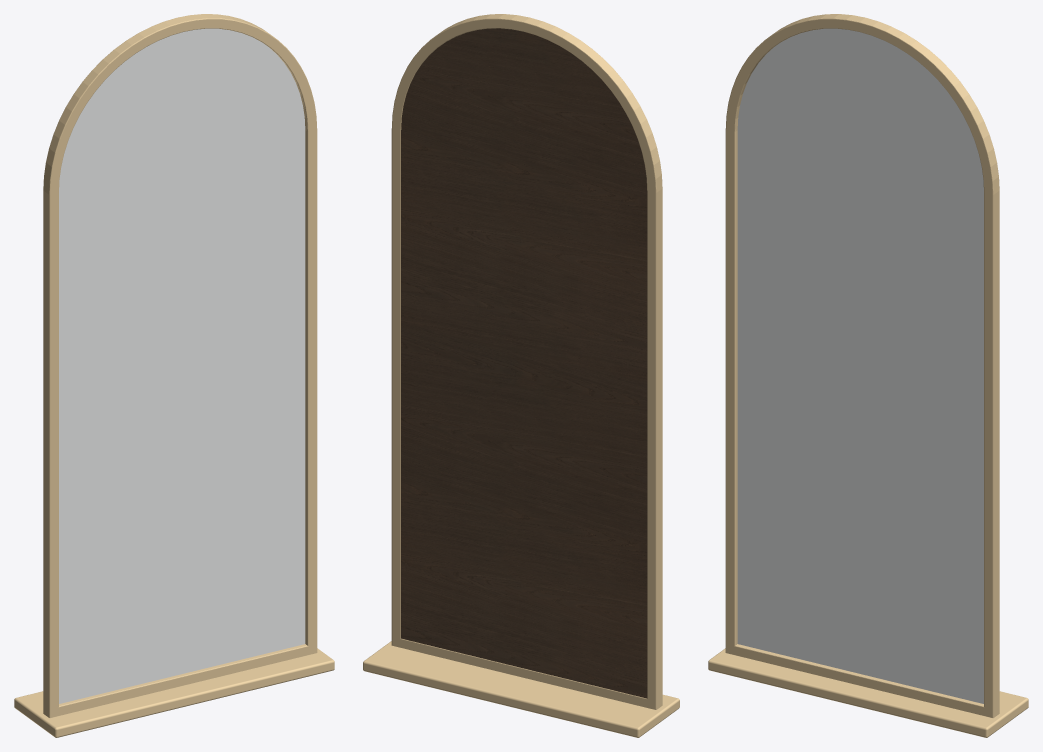
The model's file is floor_mirror_arch.gltf.
3 views of the same model, side by side, from view 1: azimuth 30°, elevation 25°; view 2: azimuth 150°, elevation 25°; view 3: azimuth 330°, elevation 25° (orthographic).
Visible parts, largest first — view 1: mirror, brushed_brass; view 2: walnut_veneer, brushed_brass; view 3: mirror, brushed_brass.
Part boxes in pixels (x1,y1,x2,y2): mirror: [59, 28, 305, 703]; brushed_brass: [14, 14, 334, 737]; walnut_veneer: [401, 28, 647, 698]; brushed_brass: [363, 14, 679, 737]; mirror: [737, 28, 983, 703]; brushed_brass: [708, 14, 1028, 737].
Bounding box in the file's own units: 0.84 × 1.93 × 0.22.
3 materials, 1 textured.
